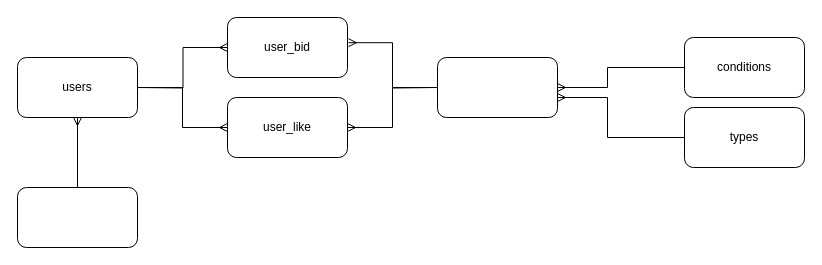
The diagram is 822 pixels wide and 265 high, and some of its shapes have lost their labels. Here are the shapes that lost their labels. From the top down, the box of each, then its label:
(436, 56, 558, 118): guitars
(16, 186, 138, 248): roles
